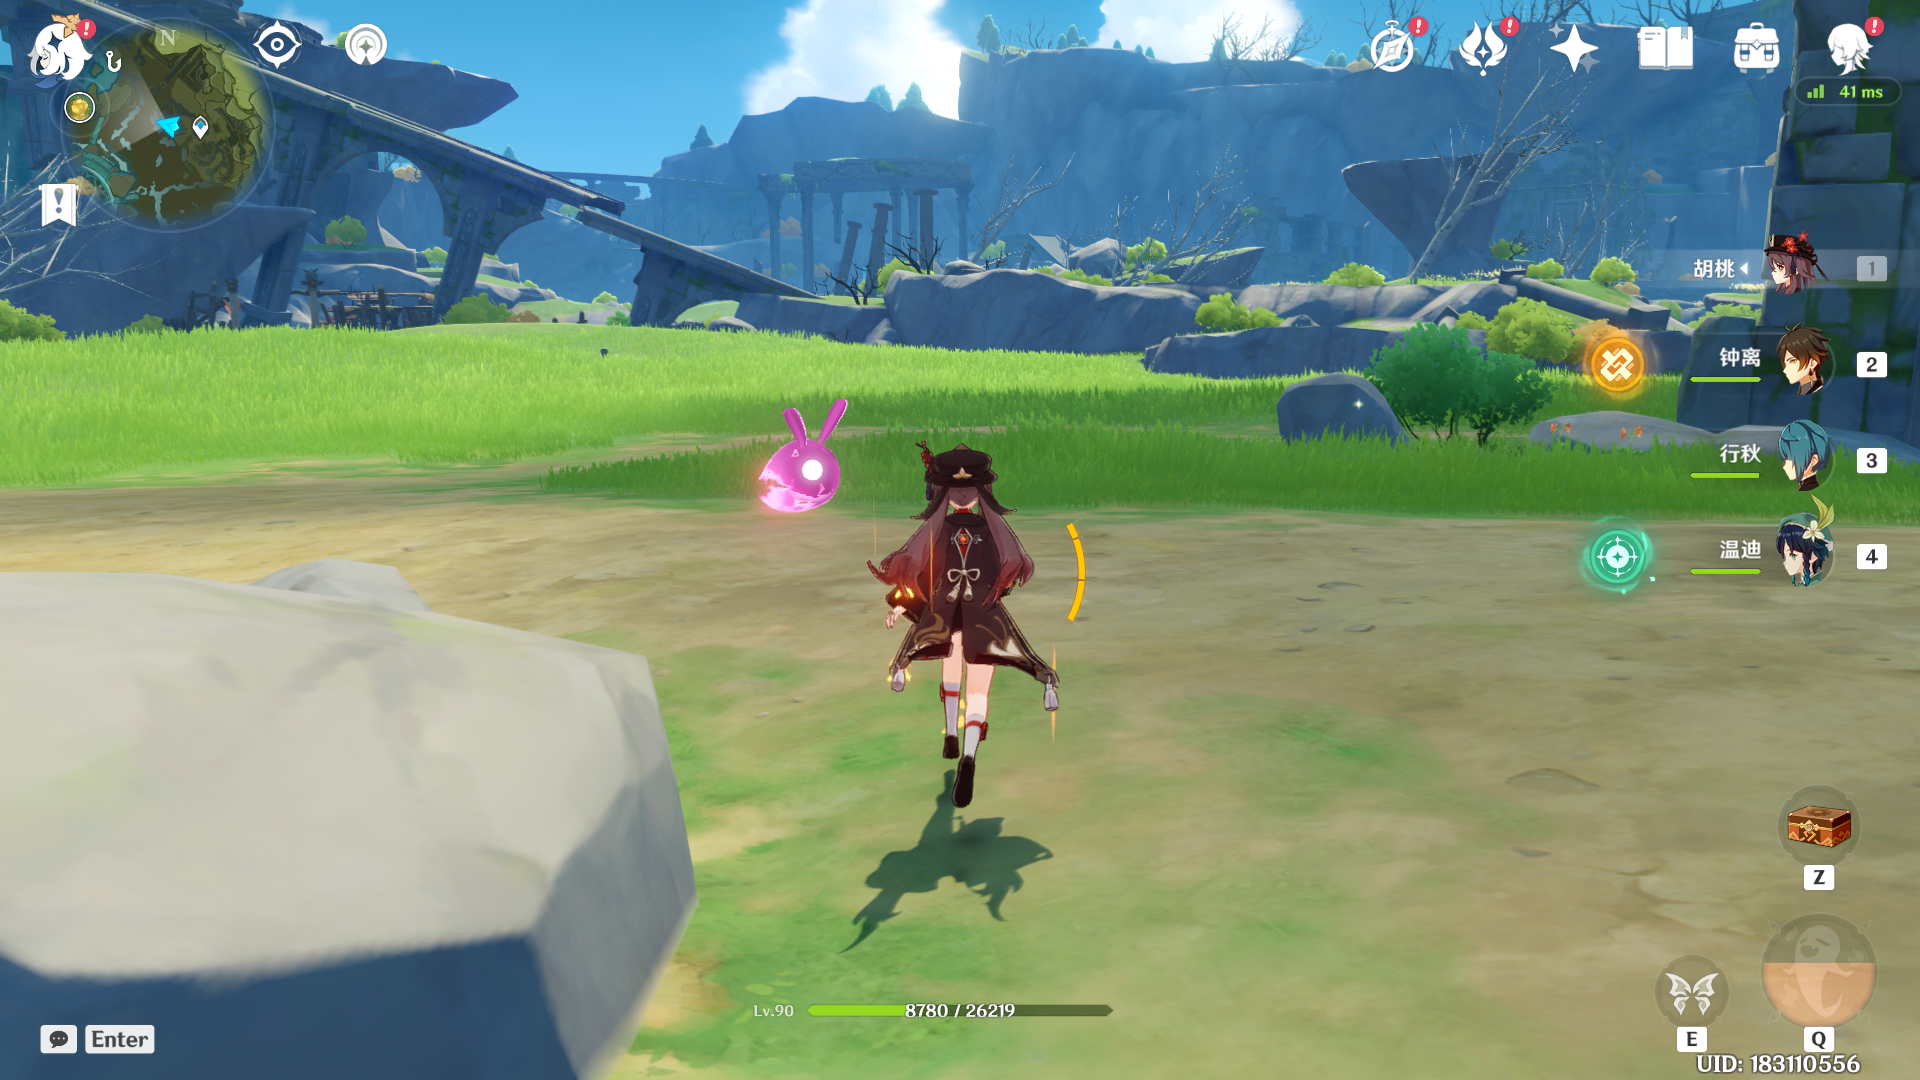character: (820, 427, 1135, 796)
